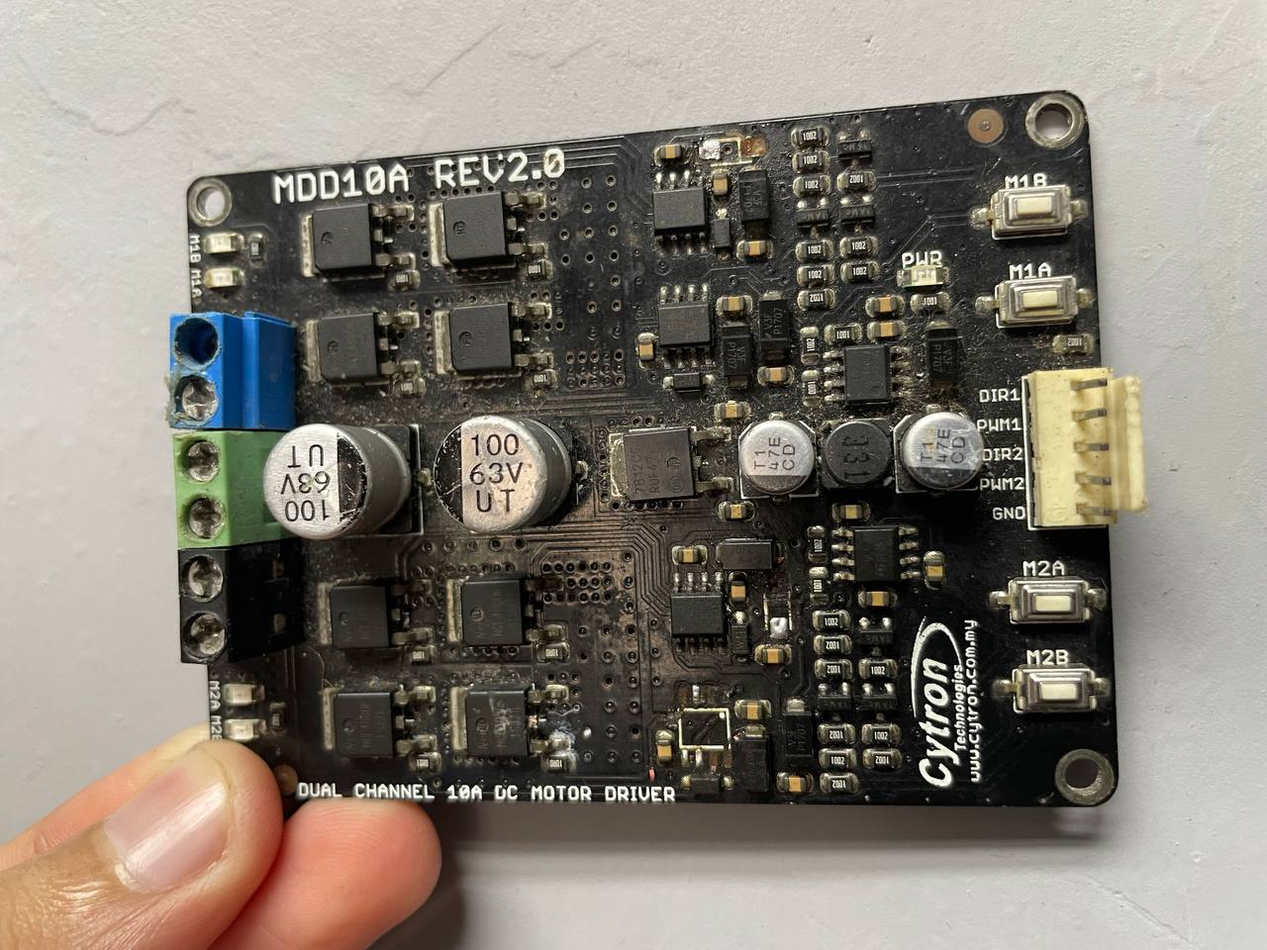broken_comp: (448, 677, 551, 765)
missing_comp: (672, 702, 738, 752), (701, 135, 766, 168), (762, 581, 797, 633)
